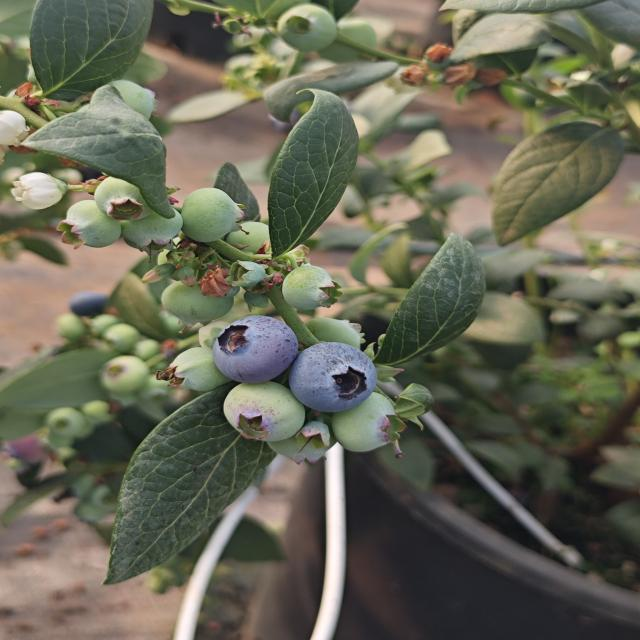ripe: (279, 332, 377, 411), (209, 312, 295, 386), (65, 285, 122, 320)
